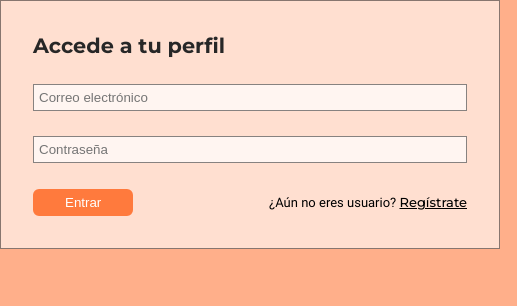
Given a Login form component › When the user logs in with an unregistered account, it should show an error message
Step 1. Type "exampleemail.com" into the field with placeholder "Correo electrónico" → (250, 97), box [33,84,467,111]
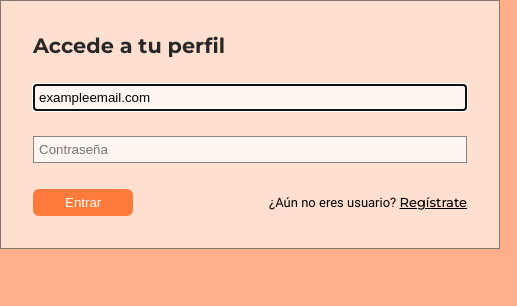
Step 2. Type "password" into the password field with placeholder "Contraseña" → (250, 150), box [33,136,467,163]
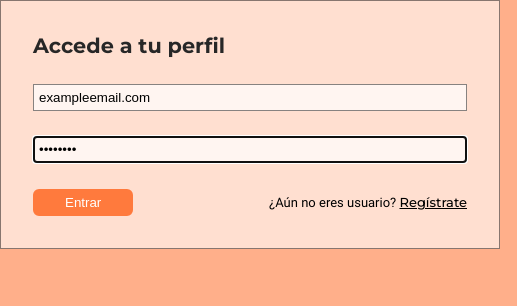
Step 3. Click the button → (83, 202), box [33,189,133,216]
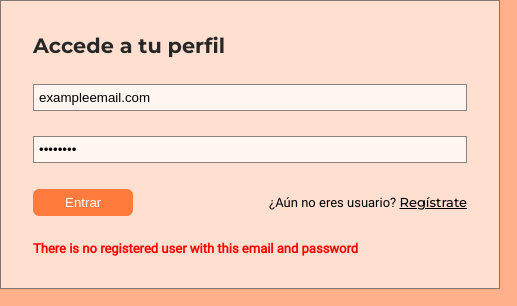
Result: the text named "error" is shown at [33,241,358,256]
